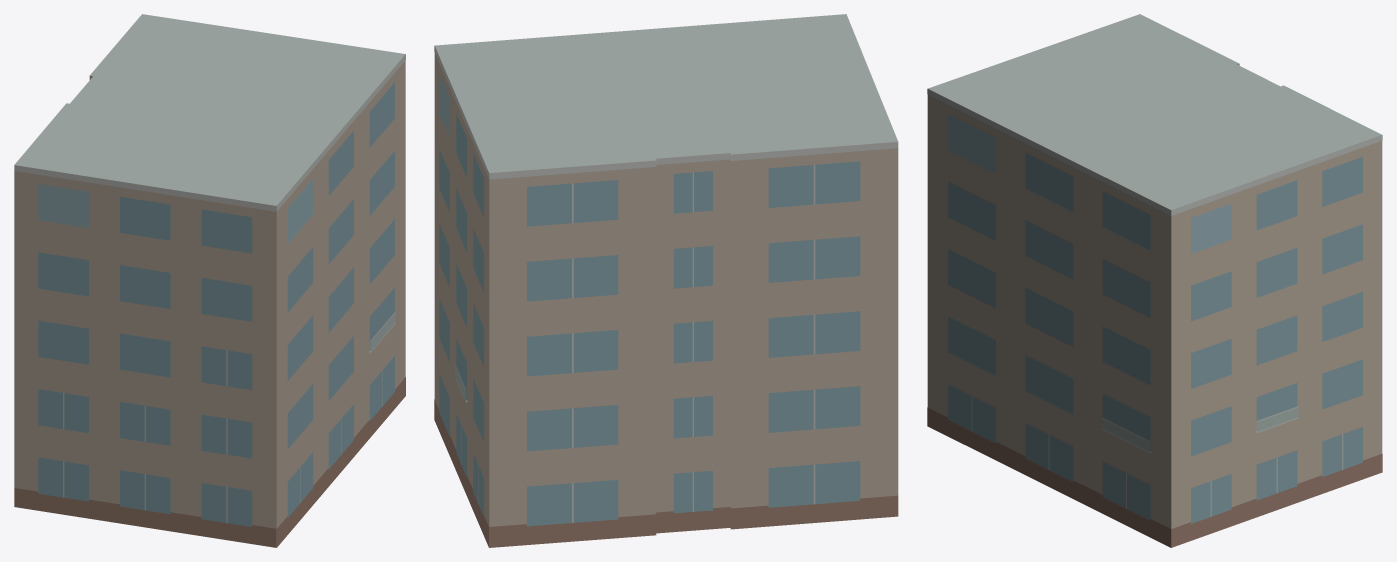
File: survey-upis-32695989.glb
The picture shows the model from 3 angles, left to right: view 1: azimuth 30°, elevation 25°; view 2: azimuth 150°, elevation 25°; view 3: azimuth 270°, elevation 25°; orthographic projection. The views are drawn at different scales.
Parts seen in each view (by area): view 1: survey-upis-32695989.tmp; view 2: survey-upis-32695989.tmp; view 3: survey-upis-32695989.tmp.
Boxes of the visible parts, x1,y1,x2,y2 form: survey-upis-32695989.tmp: (14,14,405,547); survey-upis-32695989.tmp: (434,14,898,547); survey-upis-32695989.tmp: (927,14,1382,547).
Size of the model in its own units: 17.84 by 14.3 by 17.47.
